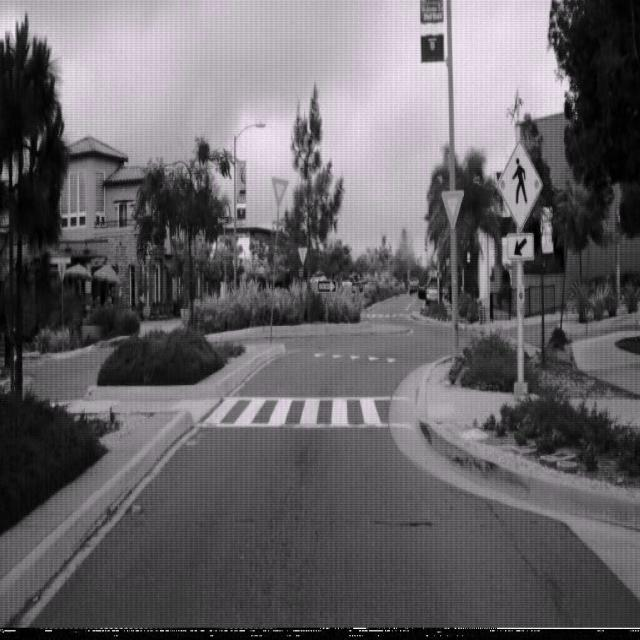pedestrianCrossing: (496, 137, 543, 232)
yield: (440, 189, 464, 229), (272, 176, 290, 208)
